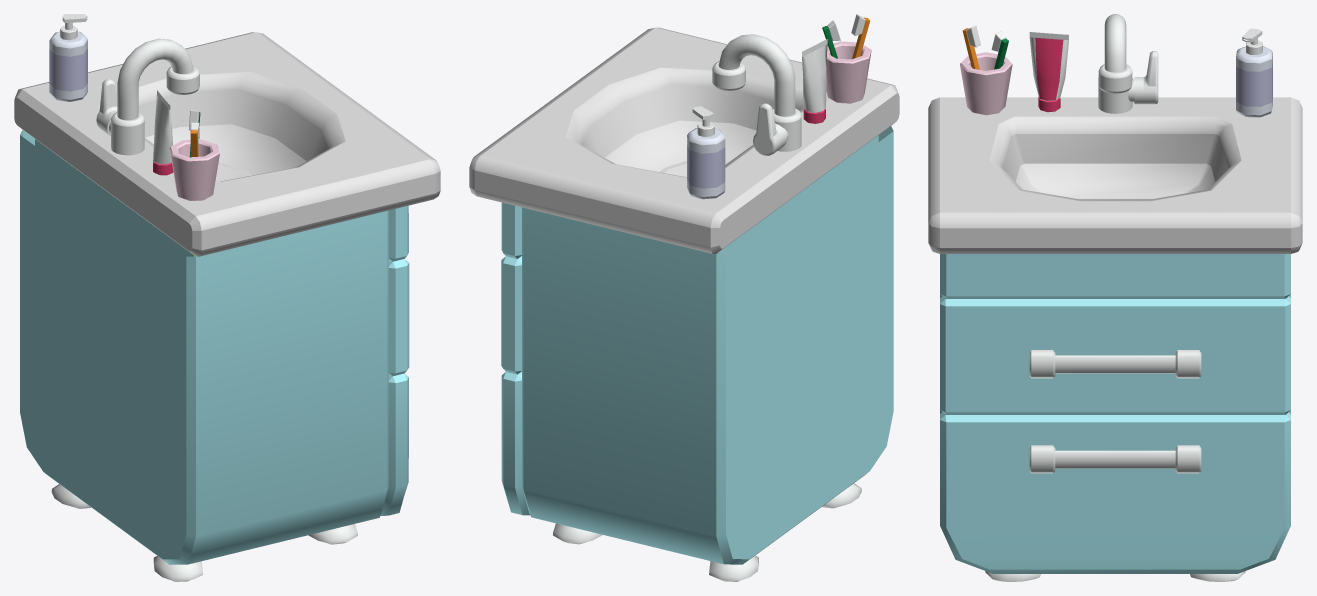
The model's file is WashBowl_02.glb.
3 renders of one model, left to right at view 1: azimuth 30°, elevation 25°; view 2: azimuth 150°, elevation 25°; view 3: azimuth 270°, elevation 25°, orthographic.
Parts seen in each view (by area): view 1: Washbowl.001, Washbowl_Box2, Washbowl_Box1; view 2: Washbowl.001, Washbowl_Box2, Washbowl_Box1; view 3: Washbowl.001, Washbowl_Box2, Washbowl_Box1.
Part boxes in pixels (x1=…): Washbowl.001: x1=14, y1=14, x2=440, y2=581; Washbowl_Box2: x1=380, y1=373, x2=408, y2=515; Washbowl_Box1: x1=388, y1=259, x2=409, y2=376; Washbowl.001: x1=469, y1=14, x2=899, y2=581; Washbowl_Box2: x1=501, y1=371, x2=529, y2=515; Washbowl_Box1: x1=501, y1=256, x2=521, y2=374; Washbowl.001: x1=928, y1=14, x2=1302, y2=581; Washbowl_Box2: x1=940, y1=412, x2=1290, y2=573; Washbowl_Box1: x1=940, y1=296, x2=1290, y2=414.
Size of the model in its own units: 0.4828 by 0.9034 by 0.6194.
Materials: 4 (2 with a texture image).
